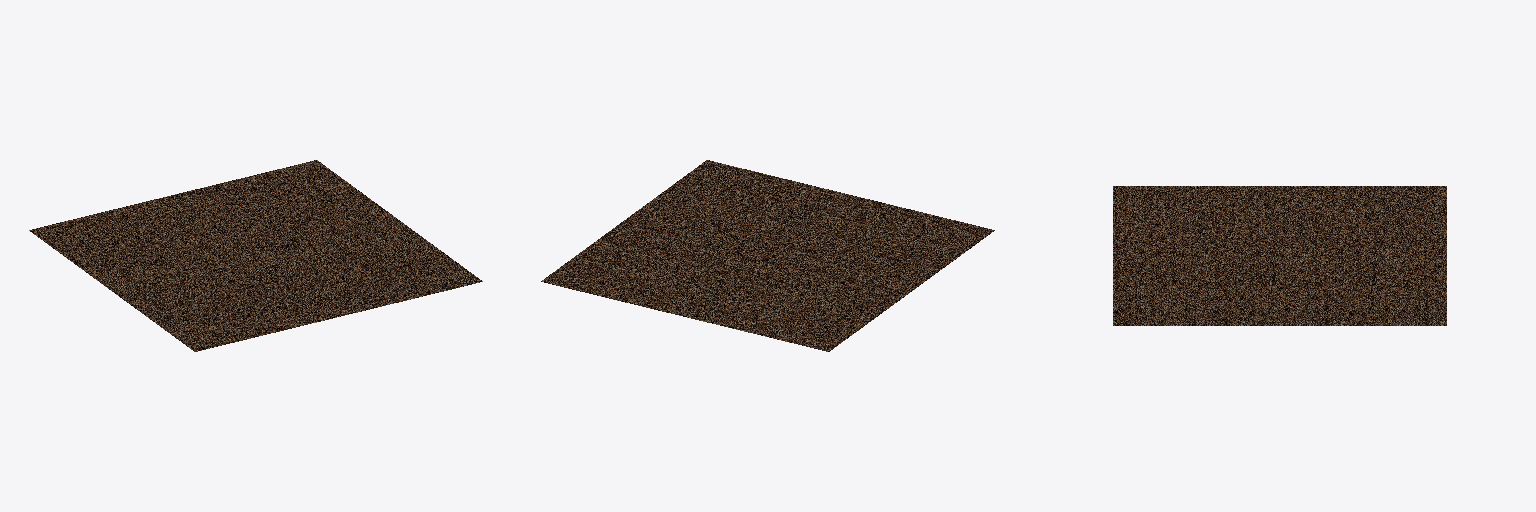
3 renders of one model, left to right at view 1: azimuth 30°, elevation 25°; view 2: azimuth 150°, elevation 25°; view 3: azimuth 270°, elevation 25°, orthographic.
Visible parts, largest first — view 1: Ebene; view 2: Ebene; view 3: Ebene.
Boxes of the visible parts, box(x1,y1,x2,y2) form: Ebene: box(29, 160, 482, 351); Ebene: box(541, 160, 994, 351); Ebene: box(1113, 186, 1446, 325).
Bounding box in the file's own units: 1 × 0 × 1.
1 materials, 1 textured.